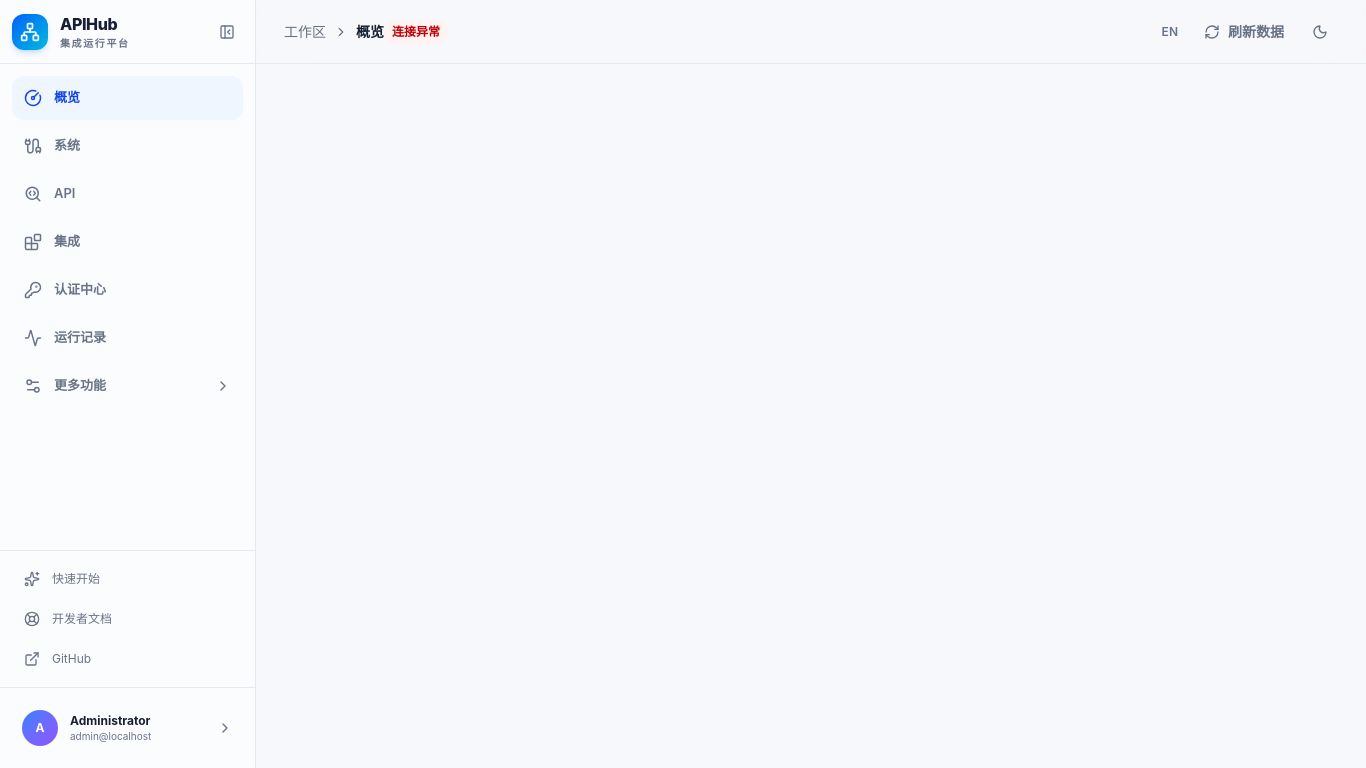
Scenario: mobile navigation › opens account details instead of signing out when the user card is clicked
Click the button named "折叠侧边栏" at (227, 32), box [211,16,243,48]
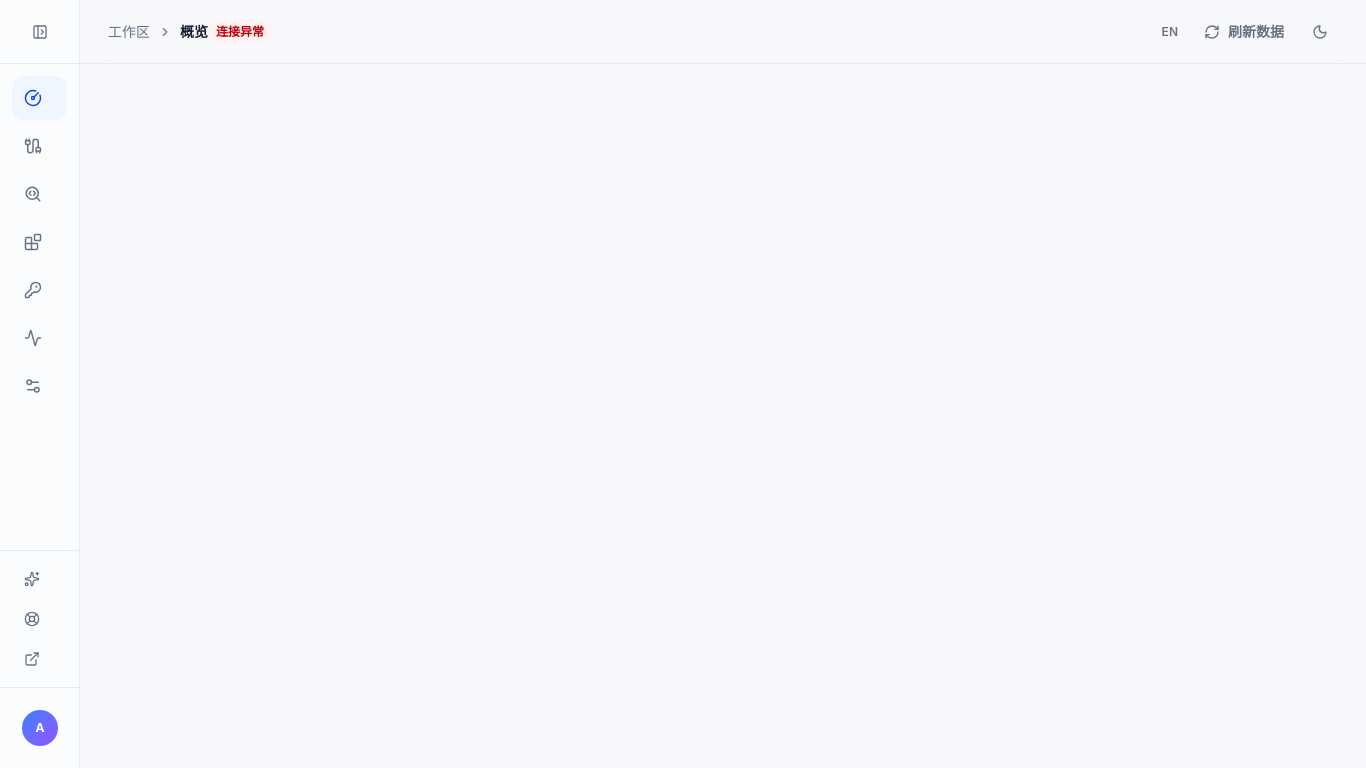
Expected: the element showing "A" has class "w-20", [0,0,80,767]
Click the button named "更多功能" at (40, 386), box [12,364,67,408]
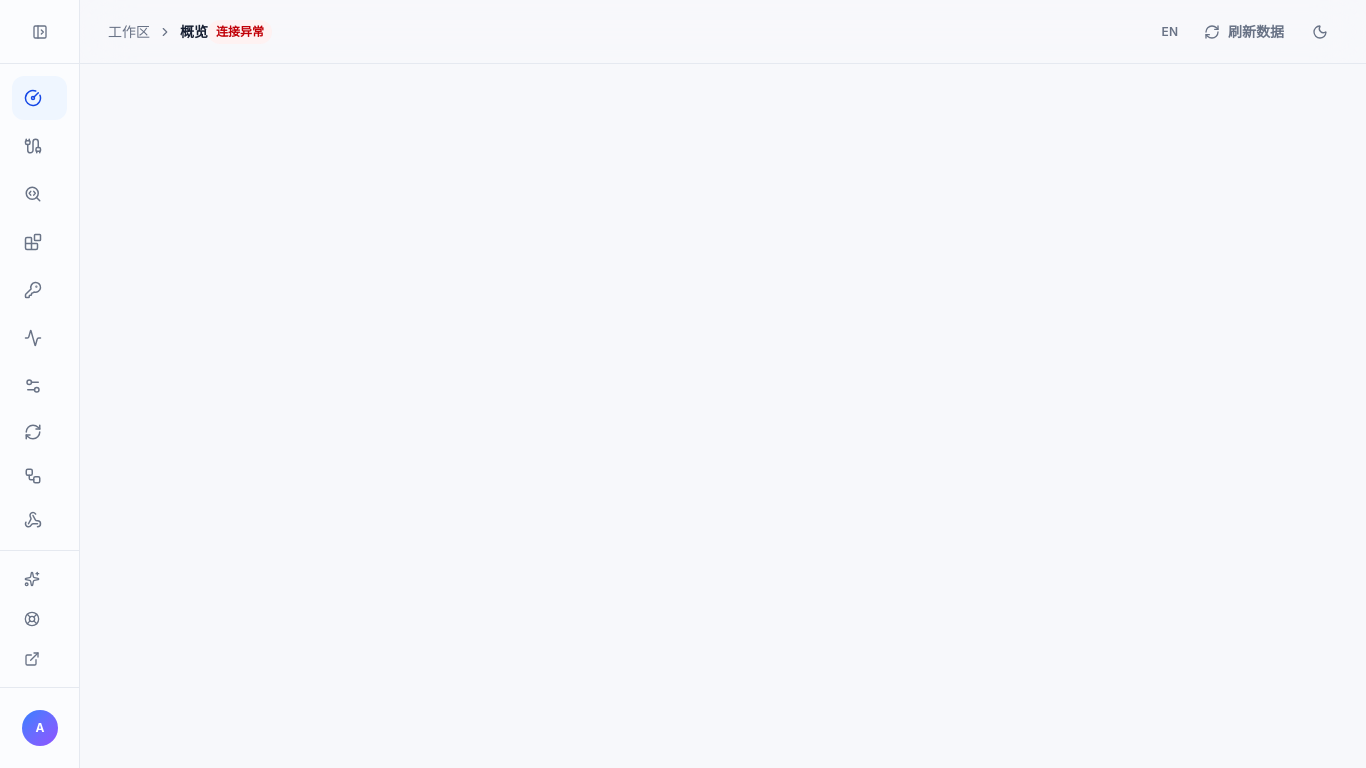
Expected: the link named "开发者文档" has attribute title="开发者文档", [23,611,83,634]
Click the button named "展开侧边栏" at (40, 32), box [24,16,56,48]
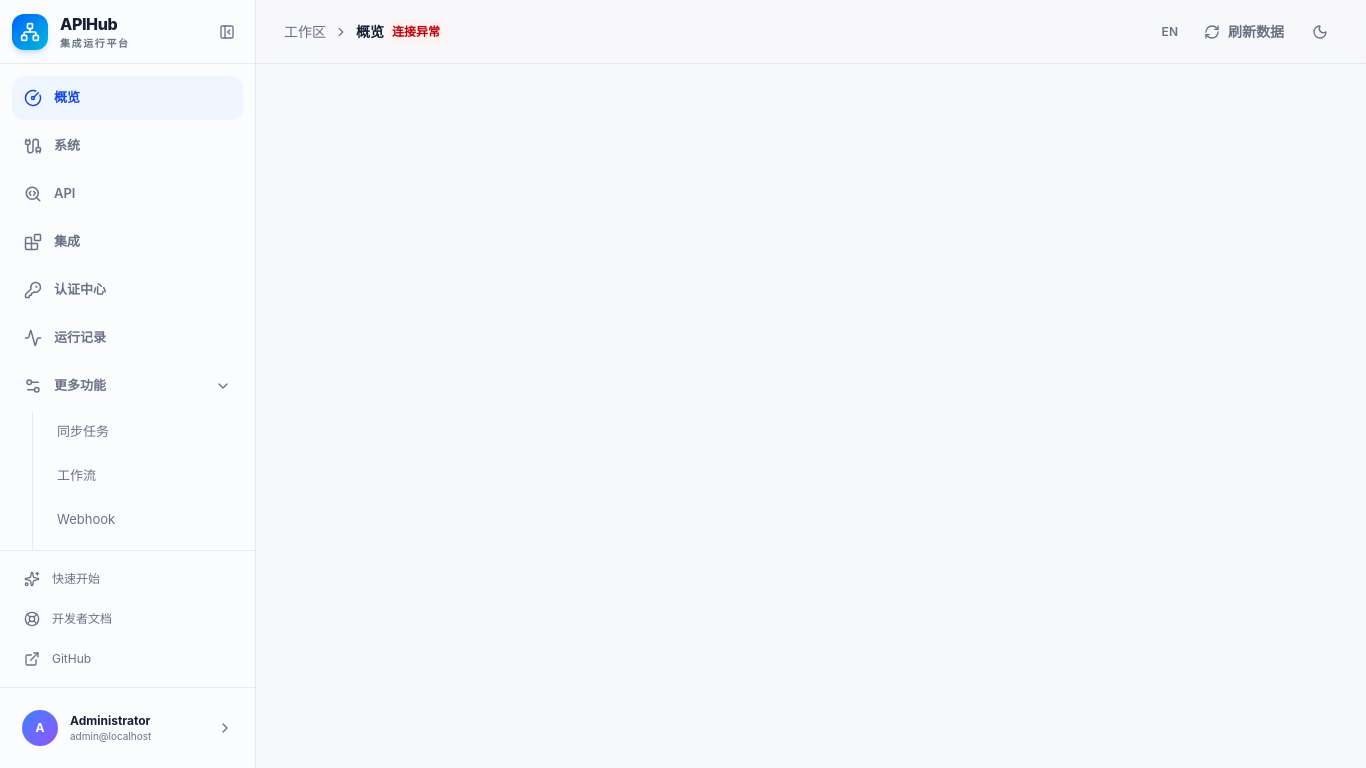
Expected: the element named "主导航" has class "w-64", [0,0,256,767]
Click the button named "折叠侧边栏" at (227, 32), box [211,16,243,48]
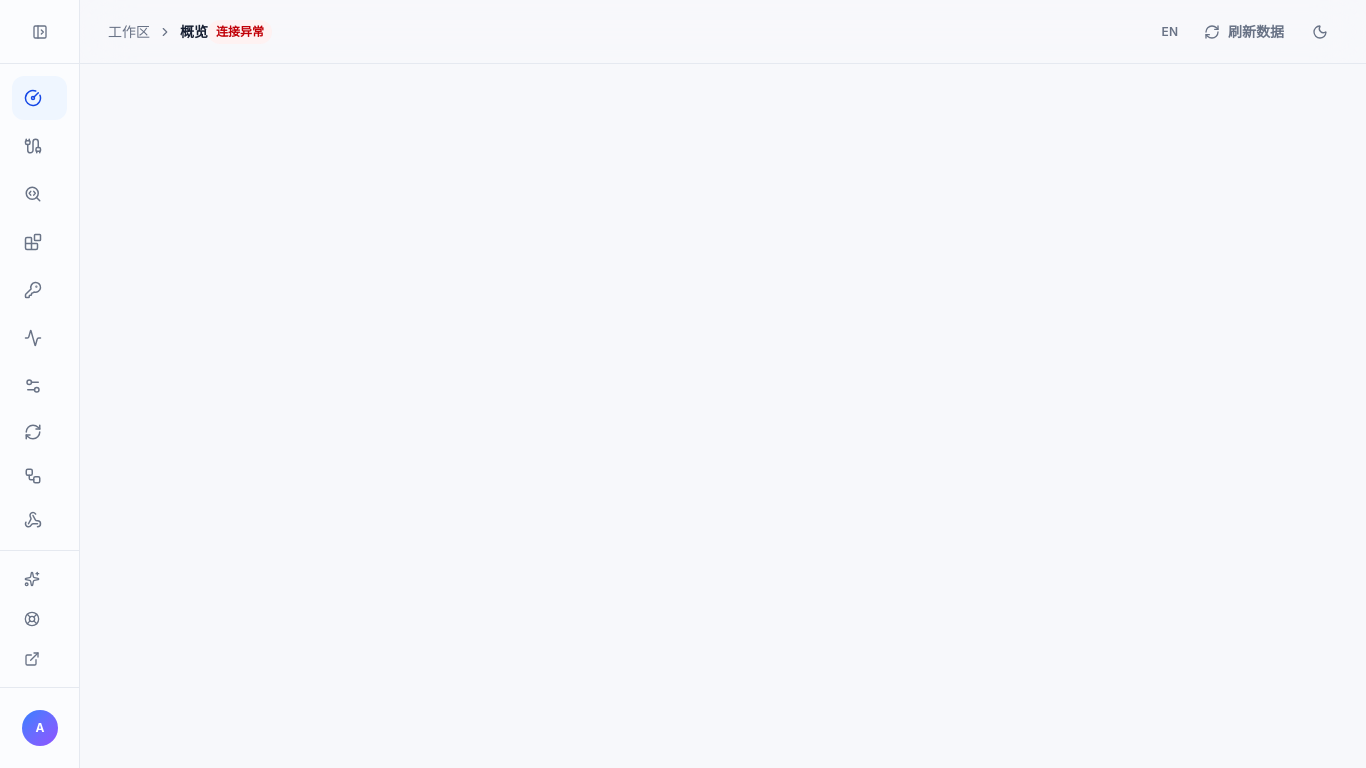
Click the button named "打开用户菜单" at (40, 728), box [12,700,67,756]
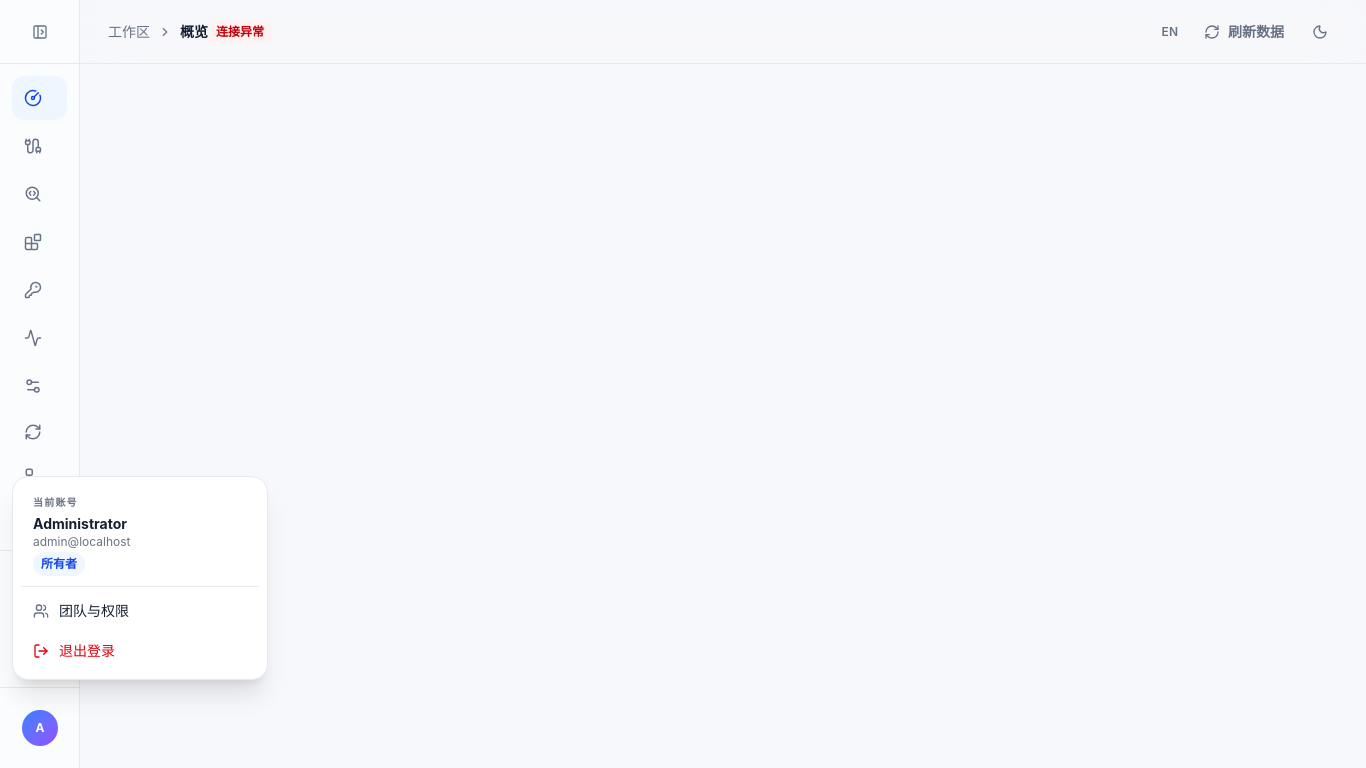
Expected: the menu named "用户菜单" is shown, [12,476,268,680]
Expected: the text "当前账号" is shown, [33,496,78,508]
Expected: the menu item "退出登录" is shown, [21,631,259,671]
